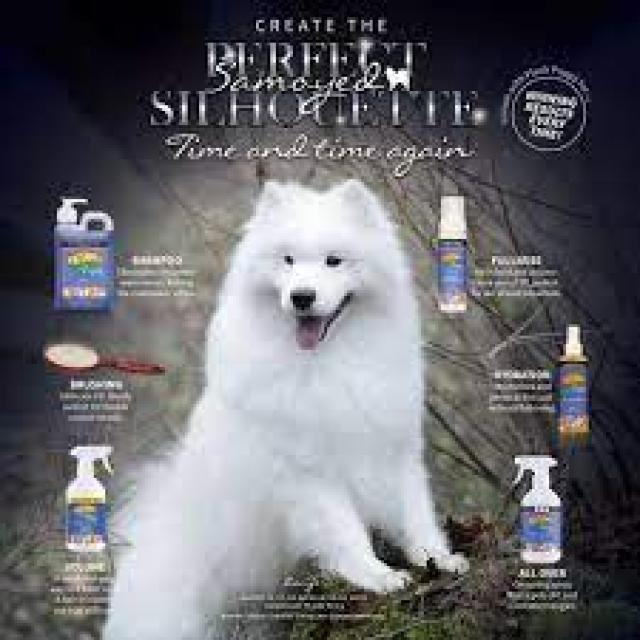dogs: (110, 177, 471, 640)
